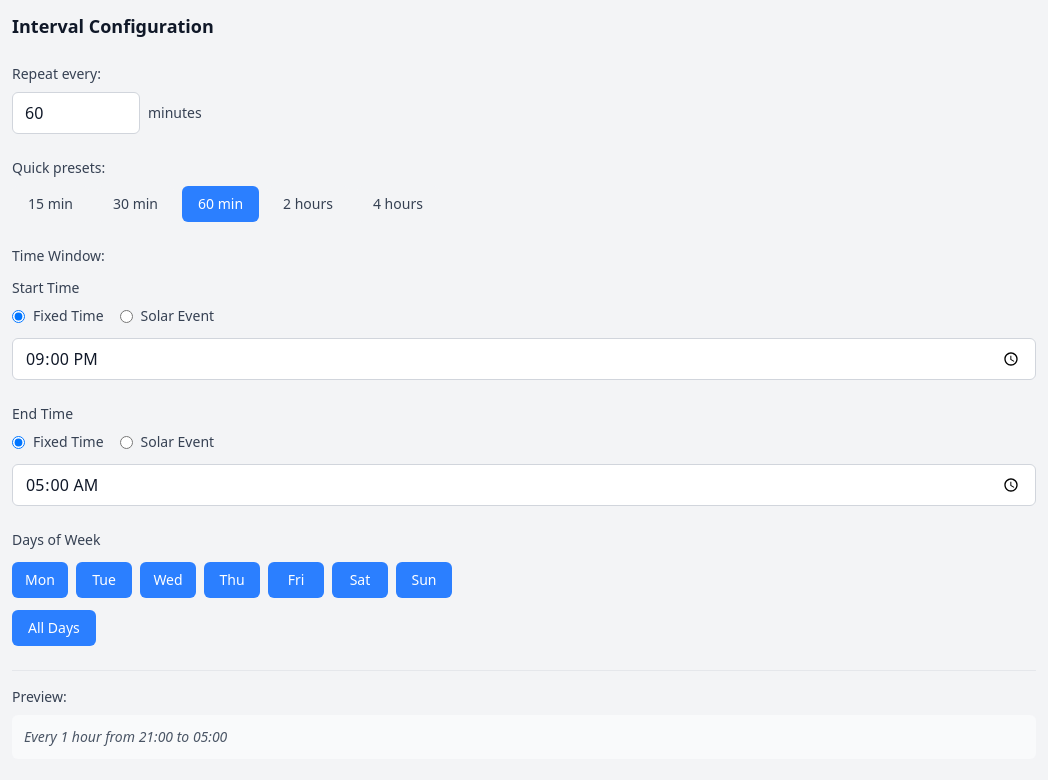
Scenario: IntervalTriggerForm › Interval Input (react-hook-form + Zod) › shows error and does not propagate when input is cleared
Clear the number field named "Interval in minutes" at (76, 113), box [12,92,140,134]
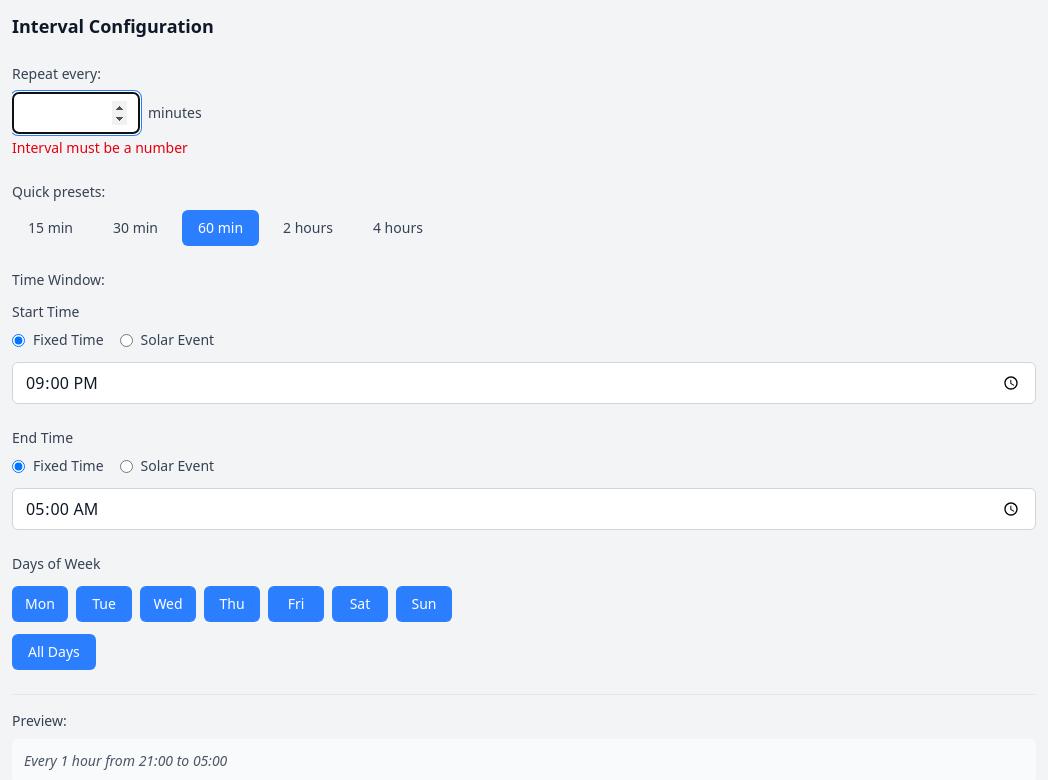
Result: the message "Interval must be a number" is shown at [12,138,188,157]
